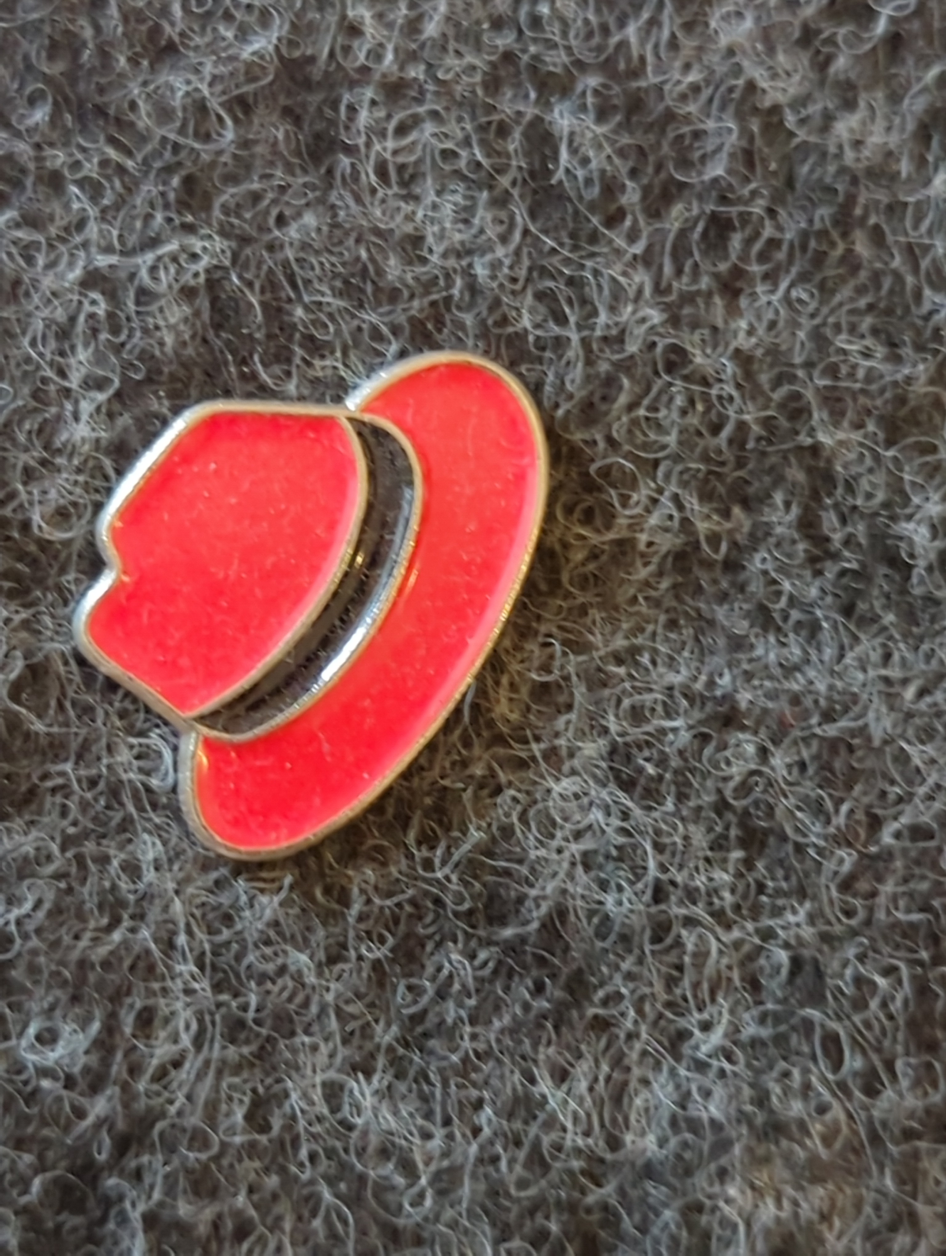Red-Hat: (14, 284, 811, 977)
